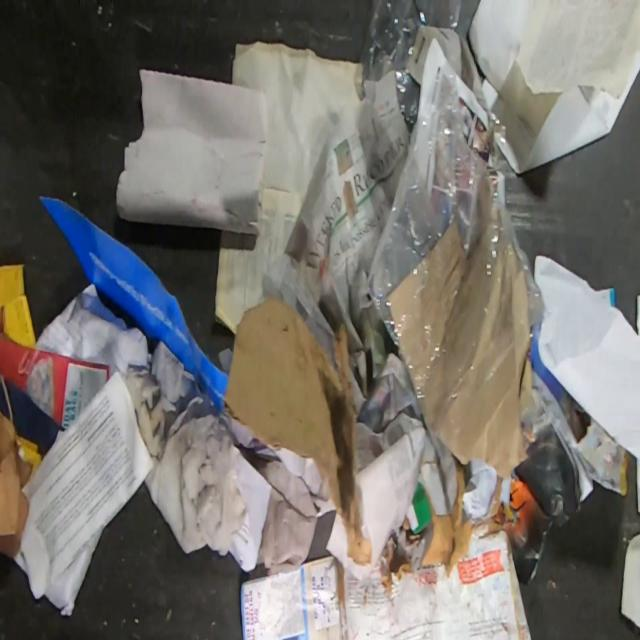cardboard: (39, 198, 228, 414), (225, 294, 373, 568), (459, 372, 539, 477)
soft_plastic: (371, 62, 617, 469), (354, 0, 462, 128)
